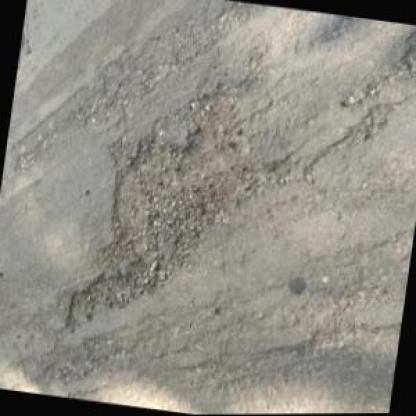pothole: (86, 68, 290, 304), (64, 265, 166, 344)
